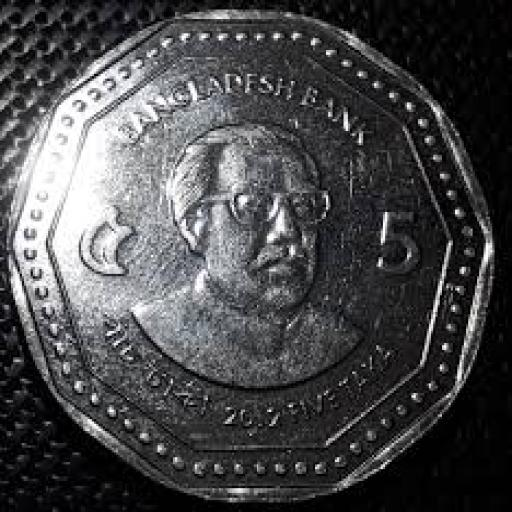5taka: (7, 10, 492, 500)
